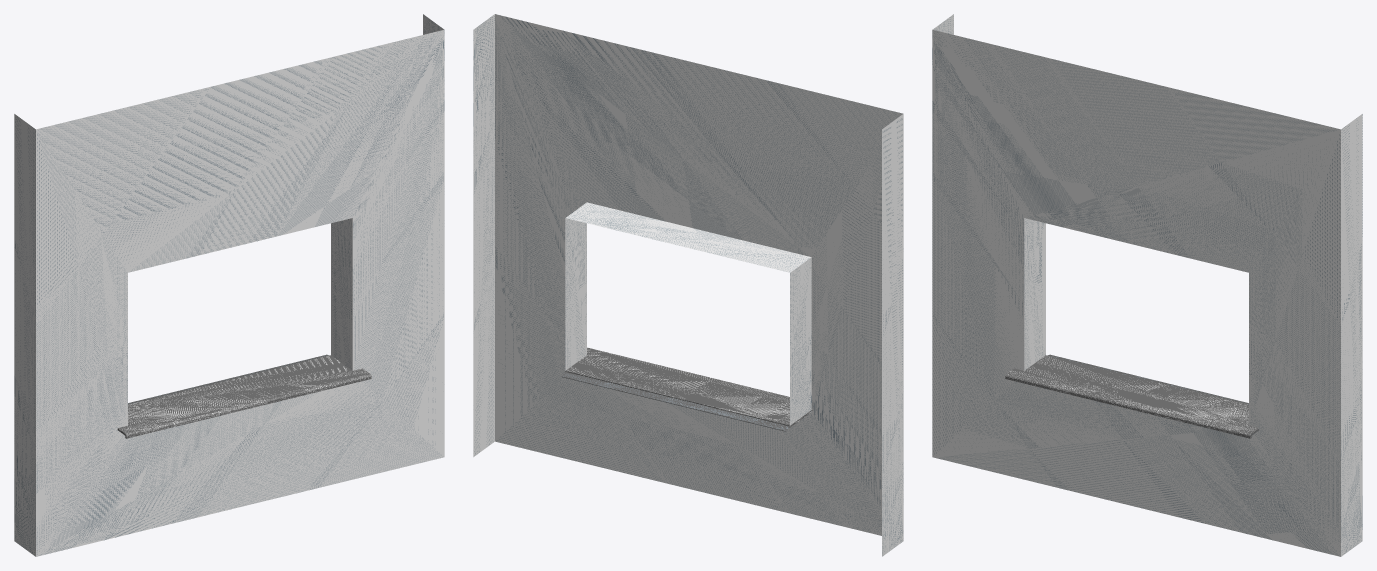
File: WindowBlock_os_[400x400]_220x143x[100].dae
The picture shows the model from 3 angles, left to right: view 1: azimuth 30°, elevation 25°; view 2: azimuth 150°, elevation 25°; view 3: azimuth 330°, elevation 25°; orthographic projection.
Visible parts, largest first — view 1: group_1 (×2), group_2; view 2: group_1 (×2), group_2 (×2); view 3: group_1 (×2), group_2.
Boxes of the visible parts, x1,y1,x2,y2 form: group_1 (×2): [14, 14, 444, 556]; group_2: [117, 355, 371, 438]; group_1 (×2): [473, 14, 903, 556]; group_2 (×2): [561, 347, 812, 431]; group_1 (×2): [932, 14, 1362, 556]; group_2: [1005, 355, 1258, 438].
Size of the model in its own units: 157 by 23.03 by 157.
